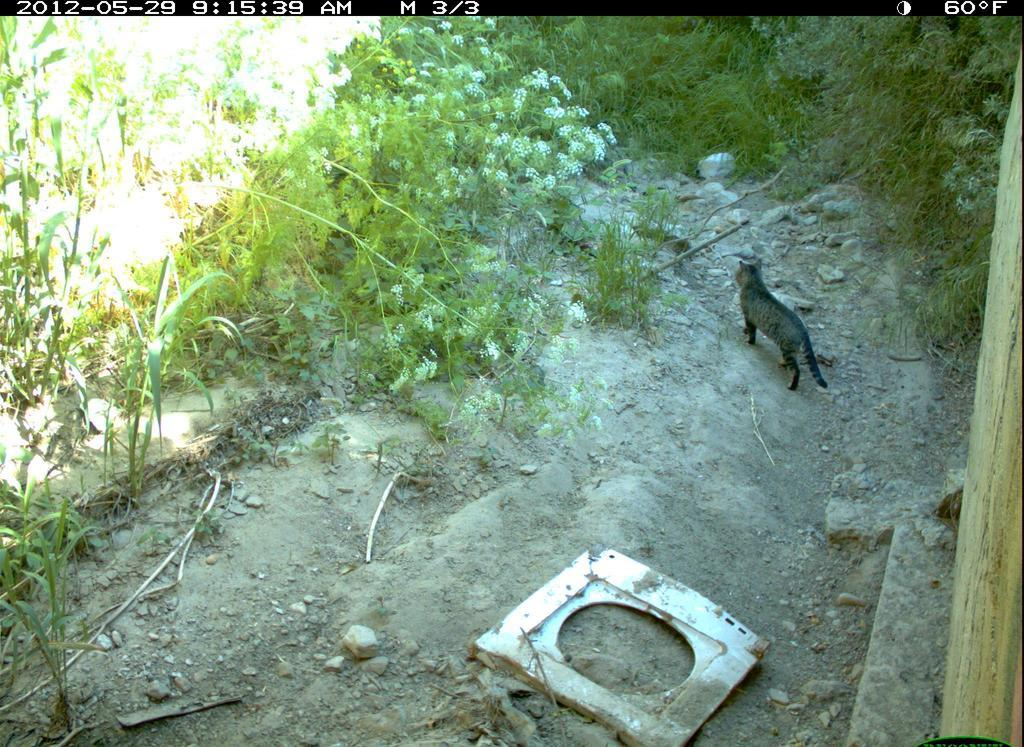cat: (733, 255, 831, 399)
